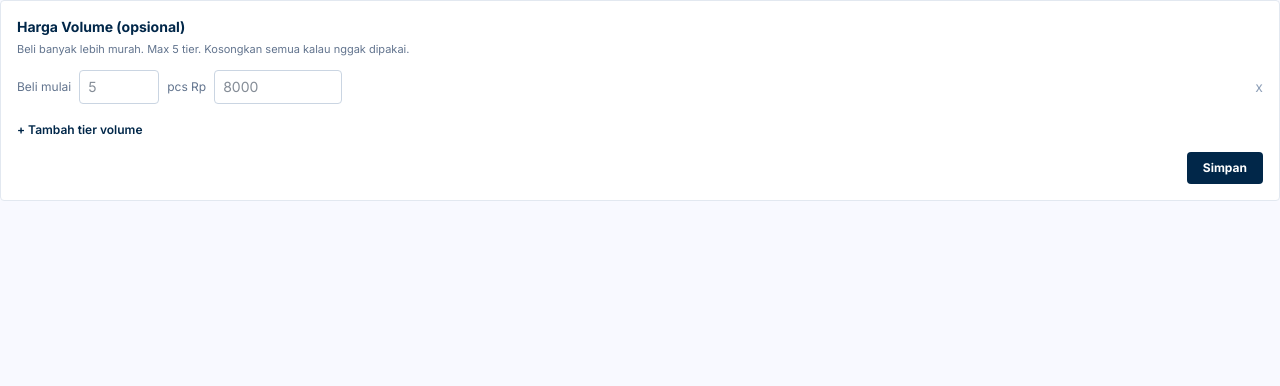
Test: QtyTiersEditor › "+ Tambah tier volume" adds a row up to cap of 5
The width and height of the screenshot is (1280, 386).
Click the button "+ Tambah tier volume": coordinates (80, 130) [17,122,142,138]
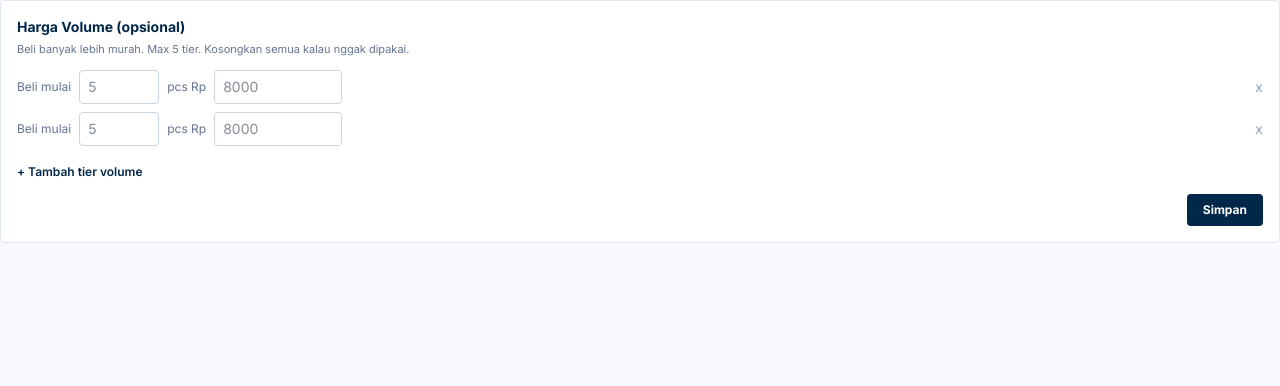
Click the button "+ Tambah tier volume": coordinates (80, 172) [17,164,142,180]
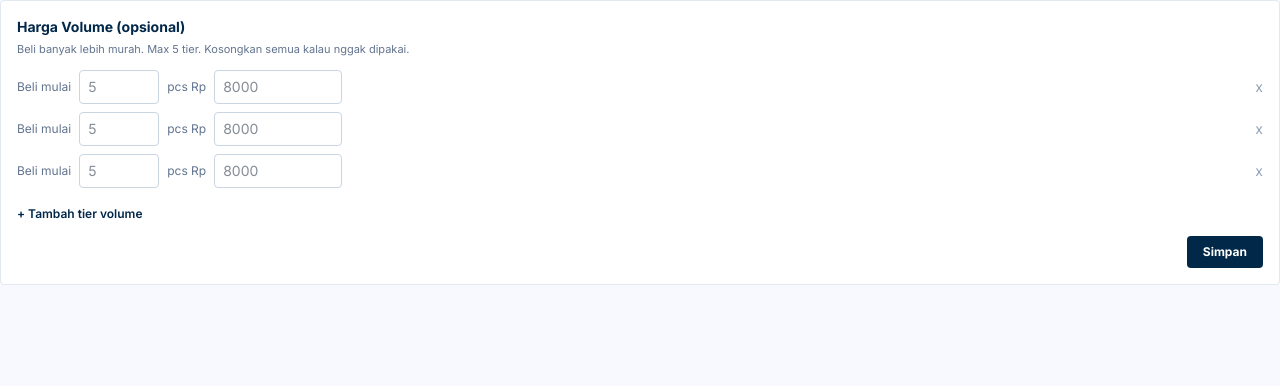
Click the button "+ Tambah tier volume": coordinates (80, 214) [17,206,142,222]
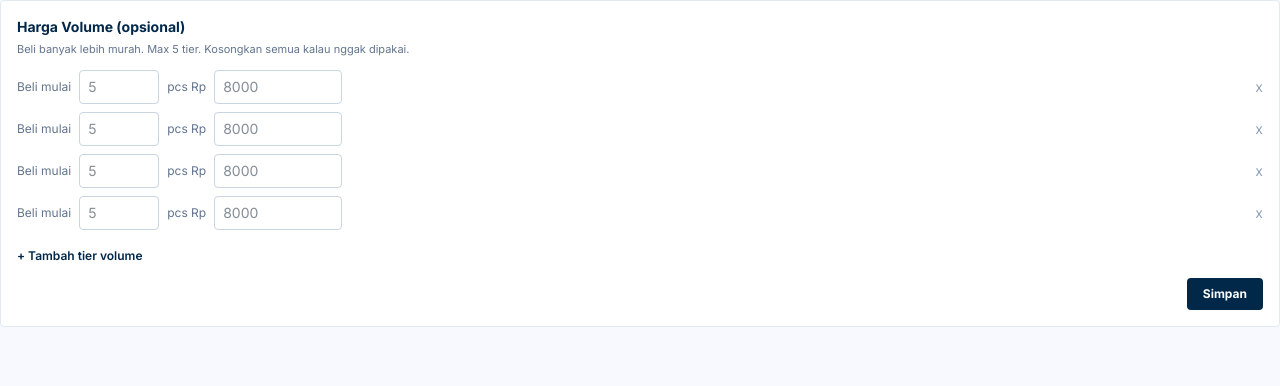
Click the button "+ Tambah tier volume": coordinates (80, 256) [17,248,142,264]
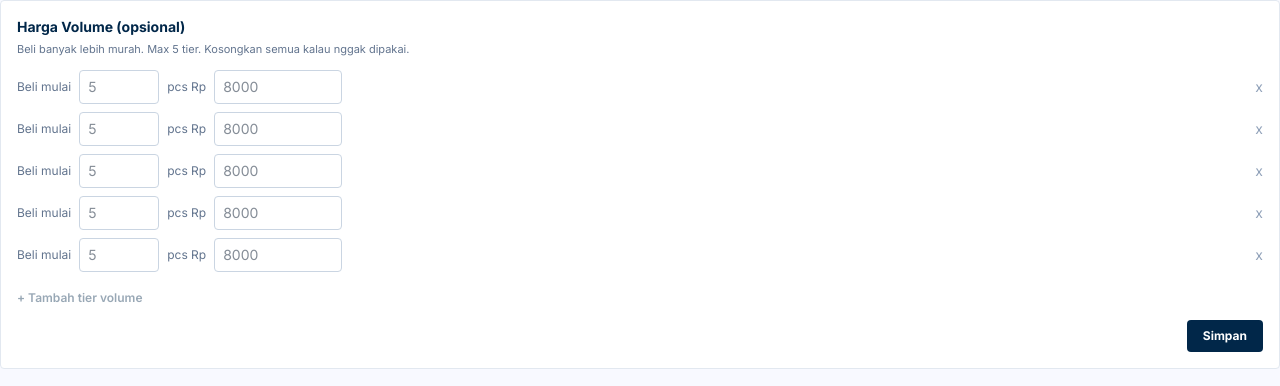
expect the number of number fields named "mulai" is 5: met, box [79,70,159,104]; [79,112,159,146]; [79,154,159,188]; [79,196,159,230]; [79,238,159,272]
expect the button "+ Tambah tier volume" is disabled: met, box [17,290,142,306]
